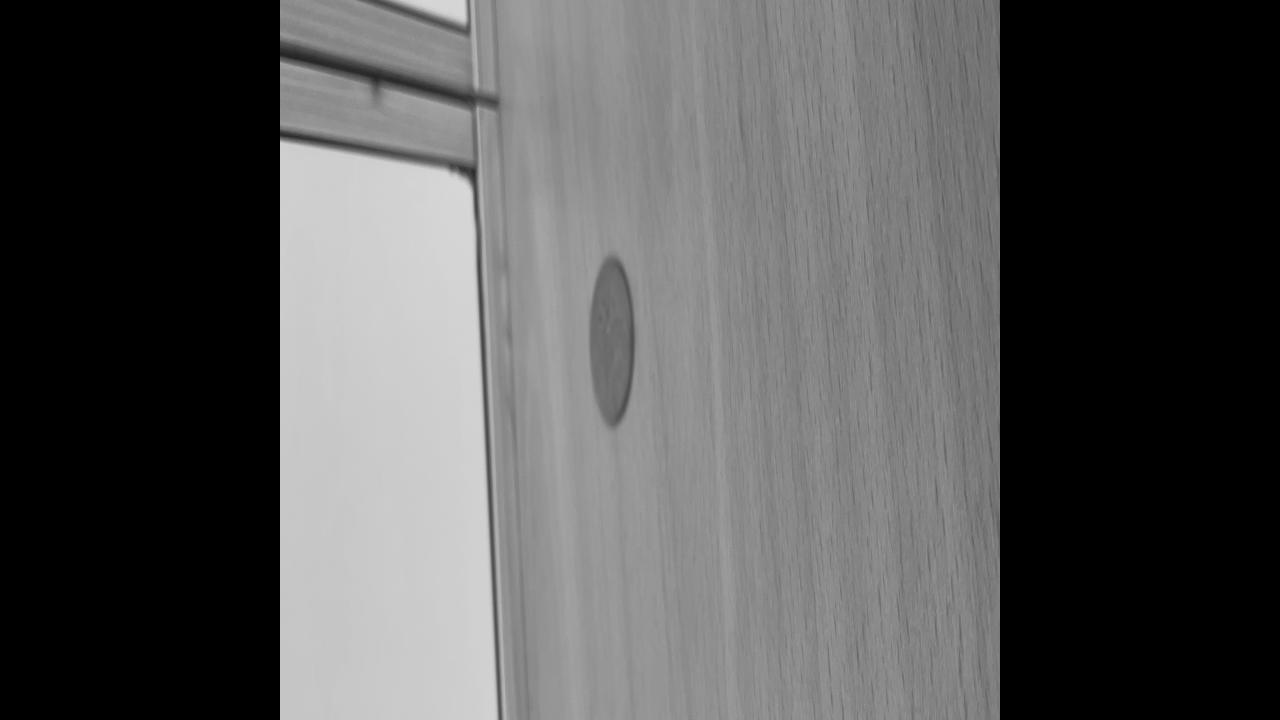coin: (586, 248, 636, 430)
